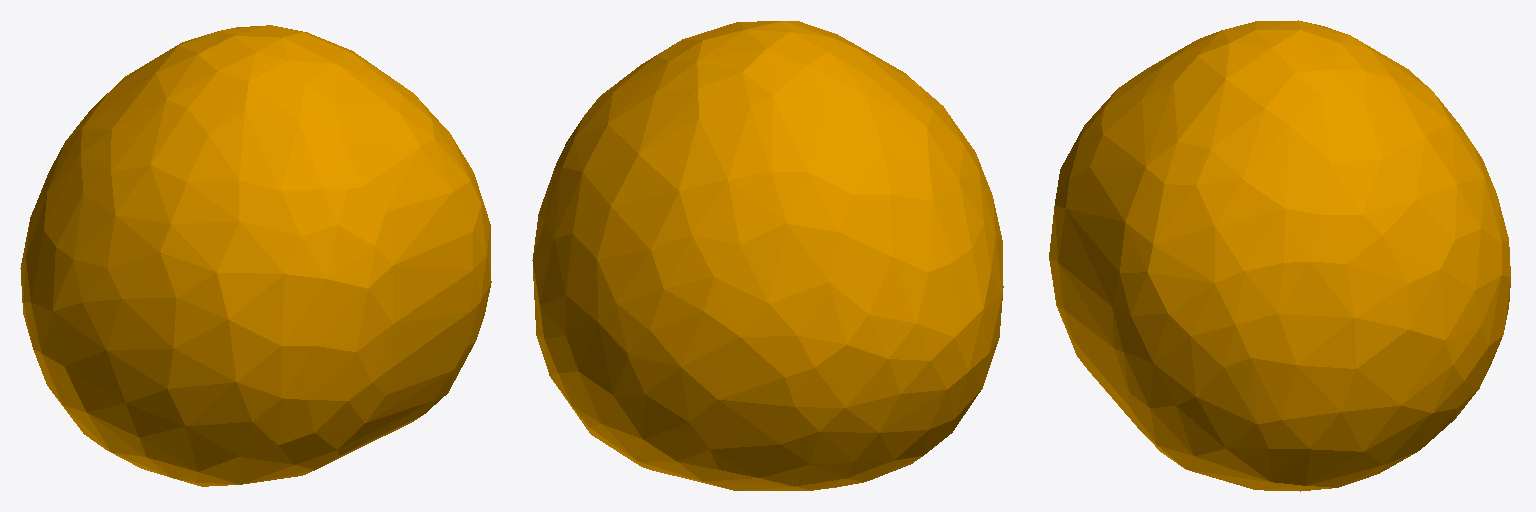
The robot description file, URDF, robot "018_plum":
<?xml version="1.0" encoding="UTF-8"?>
<robot name="018_plum">
	<link name="base">
		<collision>
			<geometry>
				<mesh filename="..\vhacd\018_plum_vhacd.obj" scale="1.0 1.0 1.0"/>
			</geometry>
			<origin xyz="0 0 0"/>
			<contact_coefficients mu="0.24" />
		</collision>
		<visual>
			<geometry>
				<mesh filename="..\vhacd\018_plum_vhacd.obj" scale="1.0 1.0 1.0"/>
			</geometry>
			<origin xyz="0 0 0"/>
		</visual>
		<inertial>
			<mass value="0"/>
			<inertia ixx="0.0" ixy="-0.0" ixz="-0.0" iyy="0.0" iyz="0.0" izz="0.0" />
			<origin xyz="-0.007742611295674436 0.019492231643855978 0.023720337520544522"/>
		</inertial>
	</link>
</robot>

--- Render facts (derived) ---
Views: 3 orthographic renders of the robot side by side, from view 1: azimuth 30°, elevation 25°; view 2: azimuth 150°, elevation 25°; view 3: azimuth 270°, elevation 25°.
Model 018_plum with 1 links and 0 joints (none), rooted at base, posed all joints at 0.
Links seen in each view (by area): view 1: base; view 2: base; view 3: base.
Boxes of the visible links, x1,y1,x2,y2 form: base: (20,25,491,486); base: (532,21,1003,490); base: (1049,20,1510,491).
Bounding box of the posed robot: 0.0574 × 0.0552 × 0.0532 m (x, y, z).
Meshes: 1 distinct files referenced, 1 mesh visuals loaded (1 OBJ).